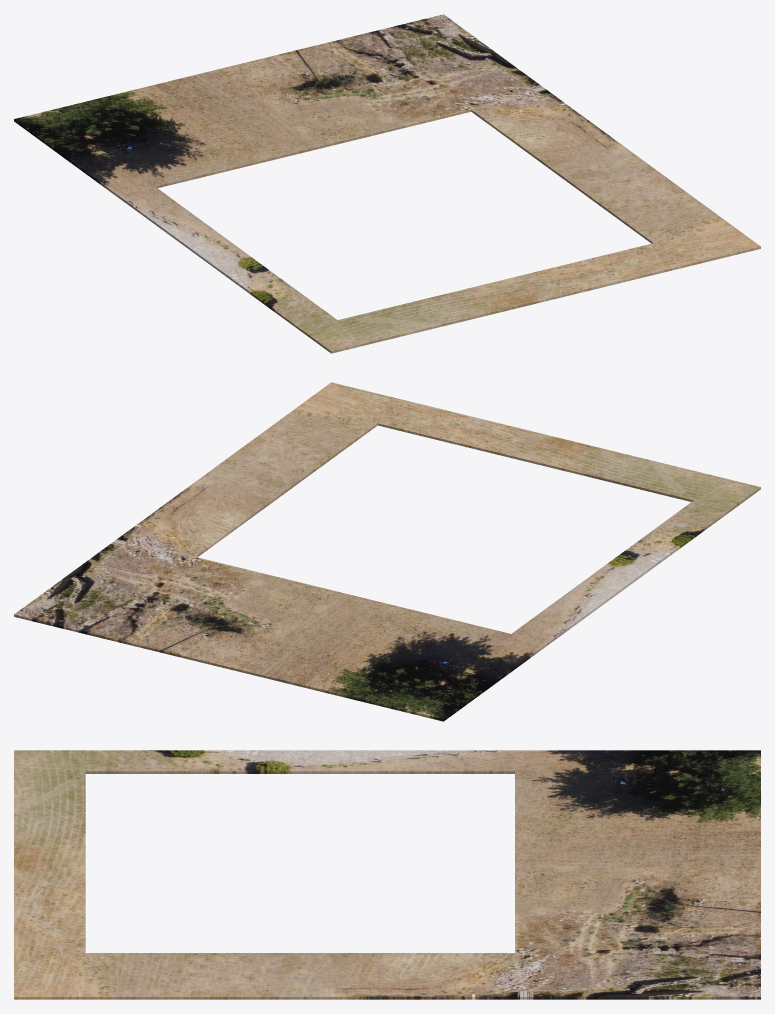
Rendered from terreno-limitrofo-bucato.gltf.
The picture shows the model from 3 angles, top to bottom: view 1: azimuth 30°, elevation 25°; view 2: azimuth 150°, elevation 25°; view 3: azimuth 270°, elevation 25°; orthographic projection. The views are drawn at different scales.
Visible parts, largest first — view 1: Rectangle001; view 2: Rectangle001; view 3: Rectangle001.
Boxes of the visible parts, x1,y1,x2,y2 form: Rectangle001: (14, 14, 760, 353); Rectangle001: (14, 382, 760, 721); Rectangle001: (14, 750, 760, 999).
Size of the model in its own units: 40.8 by 0.204 by 52.2.
Materials: 1 (1 with a texture image).
